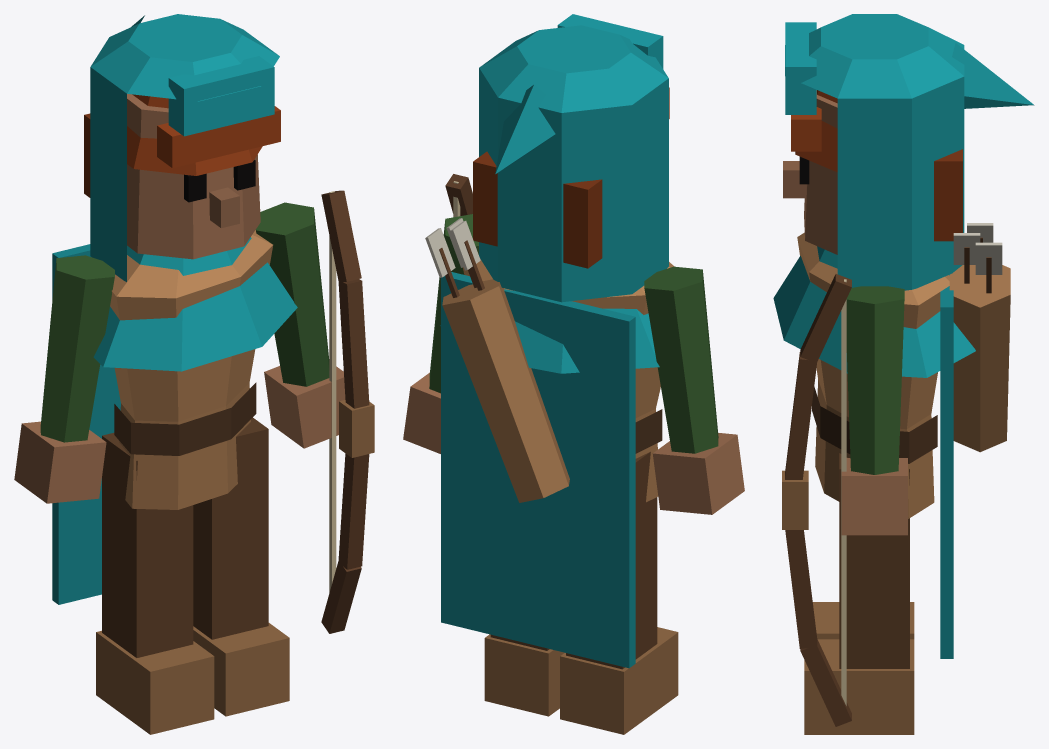
File: hero_ranger.glb
3 views of the same model, side by side, from view 1: azimuth 30°, elevation 25°; view 2: azimuth 150°, elevation 25°; view 3: azimuth 270°, elevation 25° (orthographic).
Parts seen in each view (by area): view 1: hero_ranger_torso, hero_ranger_head, hero_ranger_leg_r, hero_ranger_leg_l, hero_ranger_arm_r, hero_ranger_bow, hero_ranger_arm_l; view 2: hero_ranger_torso, hero_ranger_head, hero_ranger_arm_r, hero_ranger_leg_r, hero_ranger_leg_l, hero_ranger_arm_l, hero_ranger_bow; view 3: hero_ranger_head, hero_ranger_torso, hero_ranger_leg_l, hero_ranger_arm_l, hero_ranger_bow, hero_ranger_leg_r.
Boxes of the visible parts, x1=… form: hero_ranger_torso: x1=52, y1=230, x2=297, y2=604; hero_ranger_head: x1=84, y1=14, x2=280, y2=281; hero_ranger_leg_r: x1=96, y1=433, x2=214, y2=734; hero_ranger_leg_l: x1=193, y1=417, x2=289, y2=716; hero_ranger_arm_r: x1=14, y1=255, x2=114, y2=503; hero_ranger_bow: x1=321, y1=190, x2=374, y2=633; hero_ranger_arm_l: x1=255, y1=202, x2=345, y2=448; hero_ranger_torso: x1=425, y1=218, x2=674, y2=668; hero_ranger_head: x1=473, y1=14, x2=669, y2=302; hero_ranger_arm_r: x1=644, y1=266, x2=744, y2=514; hero_ranger_leg_r: x1=560, y1=451, x2=678, y2=734; hero_ranger_leg_l: x1=484, y1=634, x2=564, y2=716; hero_ranger_arm_l: x1=403, y1=214, x2=478, y2=453; hero_ranger_bow: x1=445, y1=174, x2=472, y2=217; hero_ranger_head: x1=783, y1=14, x2=1034, y2=290; hero_ranger_torso: x1=773, y1=223, x2=1010, y2=658; hero_ranger_leg_l: x1=804, y1=453, x2=914, y2=734; hero_ranger_arm_l: x1=841, y1=286, x2=907, y2=535; hero_ranger_bow: x1=782, y1=274, x2=851, y2=726; hero_ranger_leg_r: x1=812, y1=602, x2=914, y2=639.
Size of the model in its own units: 0.821 by 1.66 by 0.5919.
